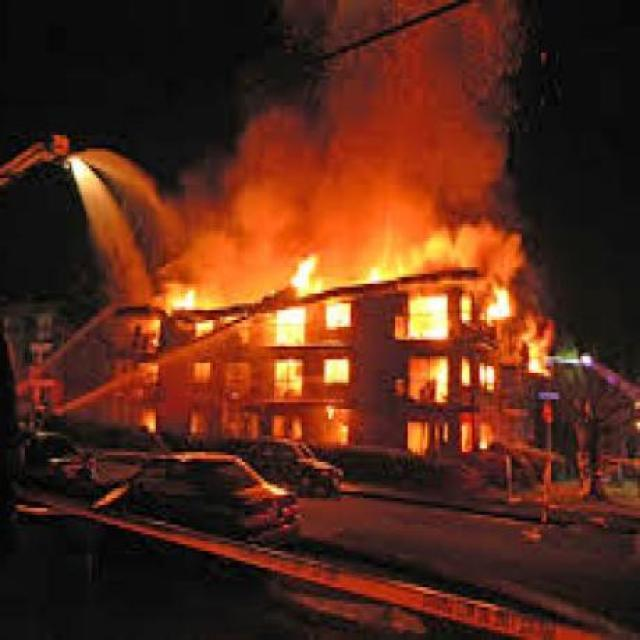Fire: (520, 309, 564, 387), (404, 291, 454, 349), (273, 304, 321, 348), (285, 256, 332, 296), (320, 302, 352, 336), (488, 287, 514, 323), (172, 291, 198, 323)
Smoke: (181, 130, 556, 246), (272, 1, 542, 130)
